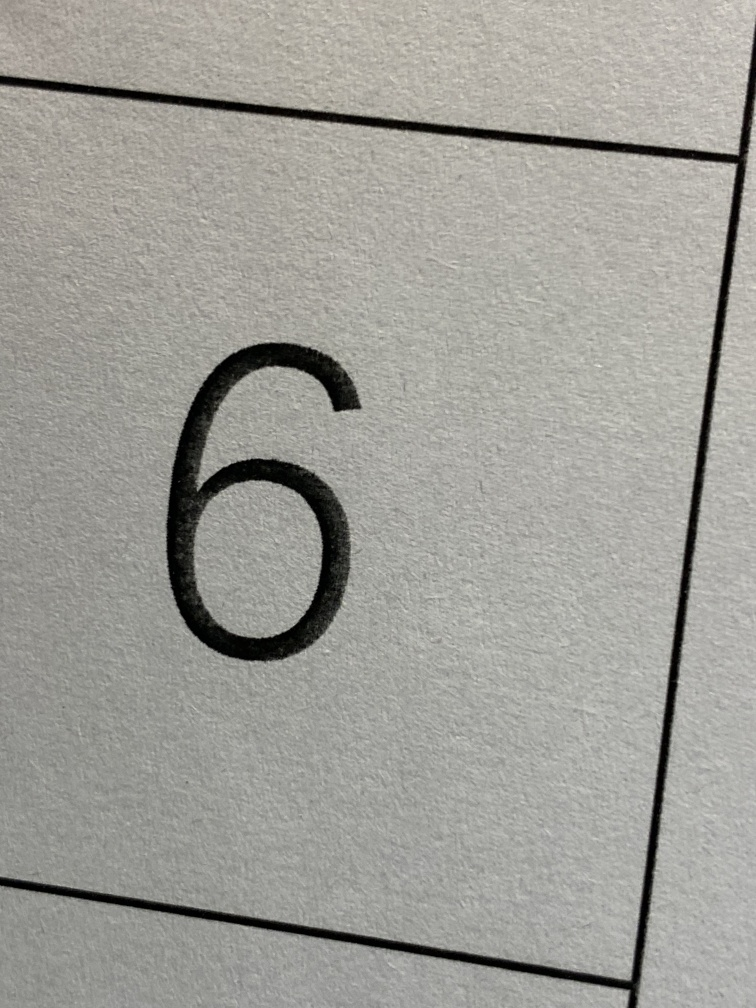six: (117, 298, 434, 703)
